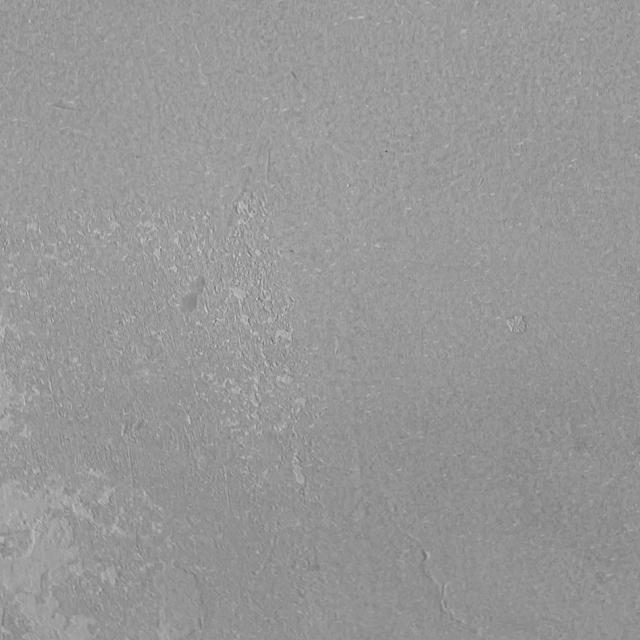rough and patchy surface: (0, 170, 351, 640)
